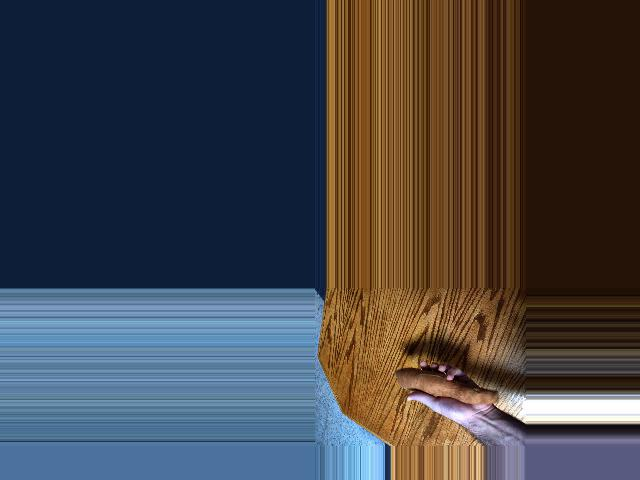sweet_potato: (393, 367, 496, 405)
